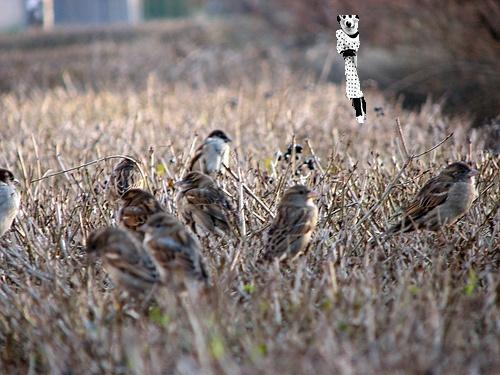tampered: (337, 16, 366, 123)
